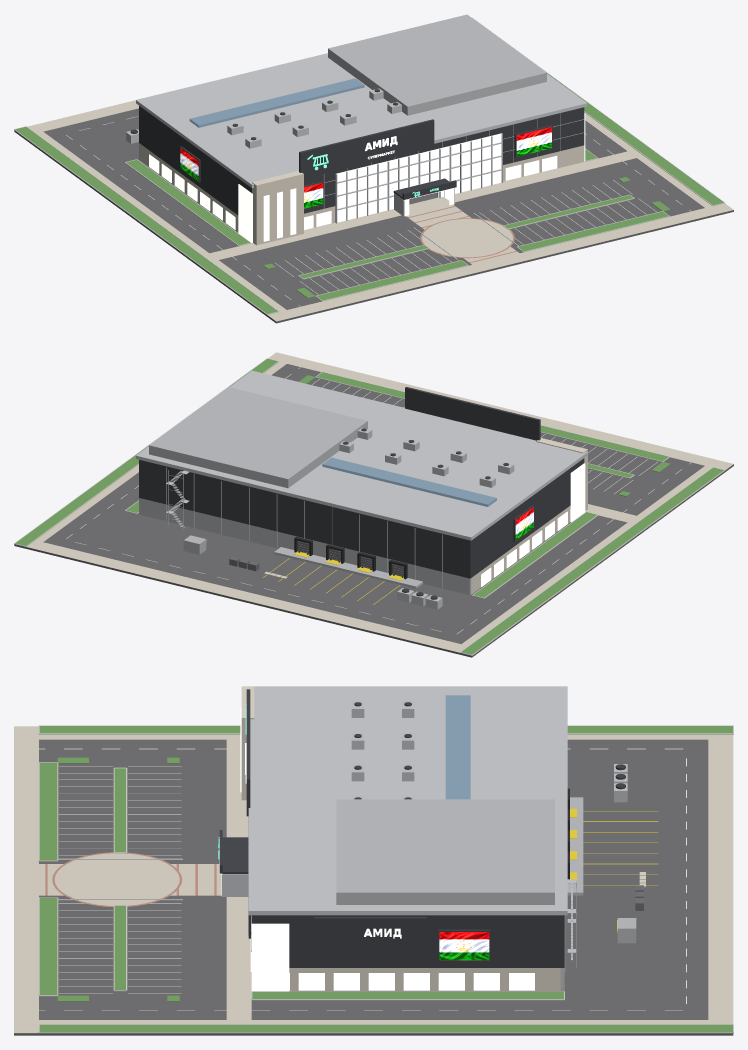
File: amid.glb
The picture shows the model from 3 angles, top to bottom: view 1: azimuth 30°, elevation 25°; view 2: azimuth 150°, elevation 25°; view 3: azimuth 270°, elevation 25°; orthographic projection. The views are drawn at different scales.
Visible parts, largest first — view 1: amid_asphalt, amid_steel, amid_pave, amid_grey, amid_panel, amid_glass, amid_lawn, amid_stone, amid_kerb, amid_darkglass, amid_screen, amid_line (+2 smaller); view 2: amid_asphalt, amid_steel, amid_panel, amid_grey, amid_pave, amid_lawn, amid_kerb, amid_darkglass, amid_glass, amid_unit, amid_stone, amid_dock (+3 smaller); view 3: amid_asphalt, amid_steel, amid_pave, amid_grey, amid_lawn, amid_panel, amid_glass, amid_kerb, amid_stone, amid_line, amid_darkglass, amid_unit (+3 smaller).
Boxes of the visible parts, box(x1,y1,x2,y2) form: amid_asphalt: box(14, 108, 733, 323); amid_steel: box(136, 53, 587, 223); amid_pave: box(27, 100, 733, 321); amid_grey: box(139, 14, 546, 158); amid_panel: box(130, 89, 584, 214); amid_glass: box(149, 112, 585, 242); amid_lawn: box(15, 73, 723, 313); amid_stone: box(139, 143, 584, 245); amid_kerb: box(14, 17, 724, 314); amid_darkglass: box(189, 78, 364, 127); amid_screen: box(180, 127, 551, 208); amid_line: box(66, 116, 690, 306); amid_asphalt: box(14, 364, 733, 657); amid_steel: box(136, 370, 587, 588); amid_panel: box(139, 387, 584, 599); amid_grey: box(139, 387, 471, 595); amid_pave: box(27, 352, 733, 652); amid_lawn: box(15, 359, 723, 654); amid_kerb: box(14, 358, 725, 655); amid_darkglass: box(322, 457, 496, 506); amid_glass: box(481, 463, 585, 586); amid_unit: box(339, 427, 514, 609); amid_stone: box(139, 438, 587, 594); amid_dock: box(229, 540, 403, 576); amid_asphalt: box(14, 739, 733, 1035); amid_steel: box(222, 686, 576, 971); amid_pave: box(14, 726, 733, 1033); amid_grey: box(336, 797, 636, 990); amid_lawn: box(39, 726, 732, 1032); amid_panel: box(219, 689, 625, 967); amid_glass: box(221, 708, 534, 991); amid_kerb: box(38, 725, 733, 1033); amid_stone: box(241, 686, 645, 990); amid_line: box(39, 748, 686, 1010); amid_darkglass: box(445, 695, 470, 799); amid_unit: box(351, 701, 627, 802).
Size of the model in its own units: 116 by 19.85 by 115.
19 materials, 1 textured.
